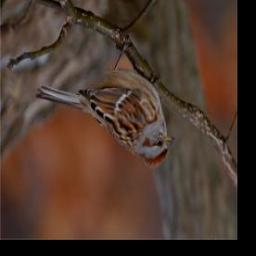Sparrow: (35, 35, 177, 168)
